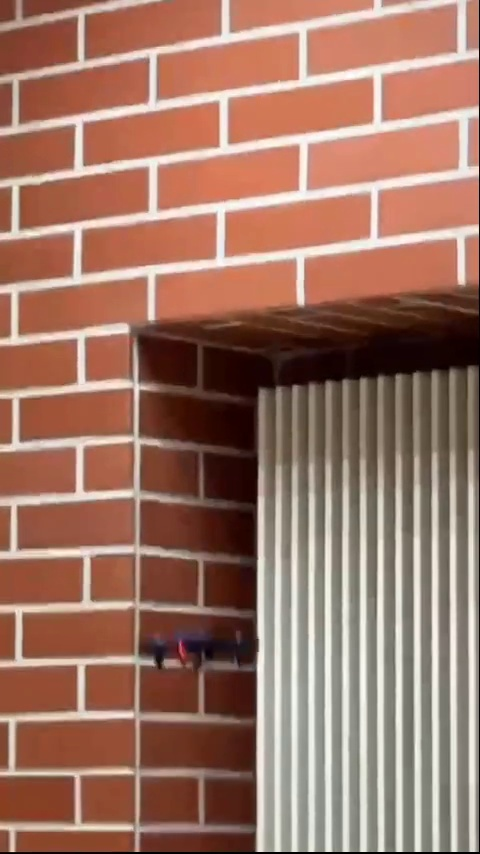drone: (136, 626, 267, 674)
